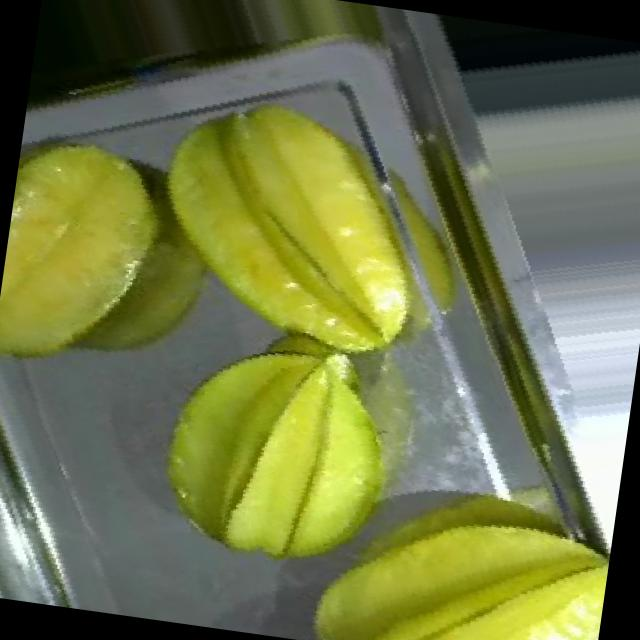fruit: (99, 32, 486, 408), (90, 256, 470, 630), (277, 419, 623, 640), (0, 95, 222, 427)
